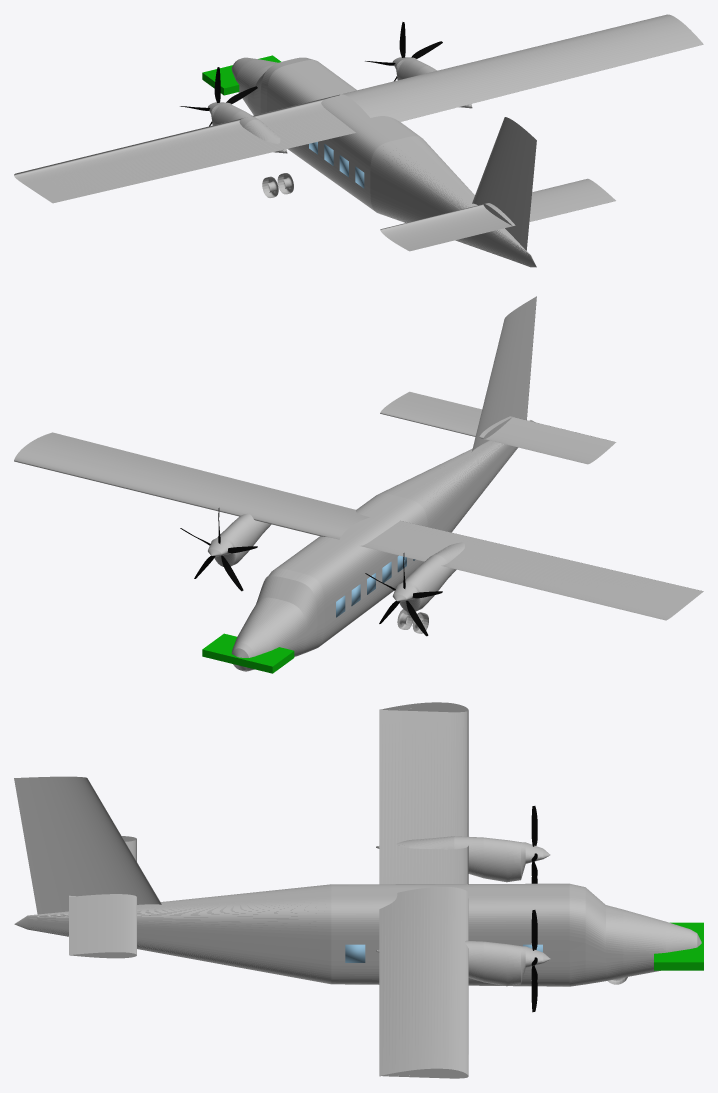
File: Electric_Twin_Otter.gltf
3 renders of one model, top to bottom at view 1: azimuth 30°, elevation 25°; view 2: azimuth 150°, elevation 25°; view 3: azimuth 270°, elevation 25°, orthographic. The views are drawn at different scales.
Visible parts, largest first — view 1: Renderer Node; view 2: Renderer Node; view 3: Renderer Node.
Boxes of the visible parts, x1,y1,x2,y2 form: Renderer Node: [14, 14, 703, 267]; Renderer Node: [14, 296, 703, 673]; Renderer Node: [14, 702, 703, 1078].
Bounding box in the file's own units: 19.81 × 5.18 × 15.77.
